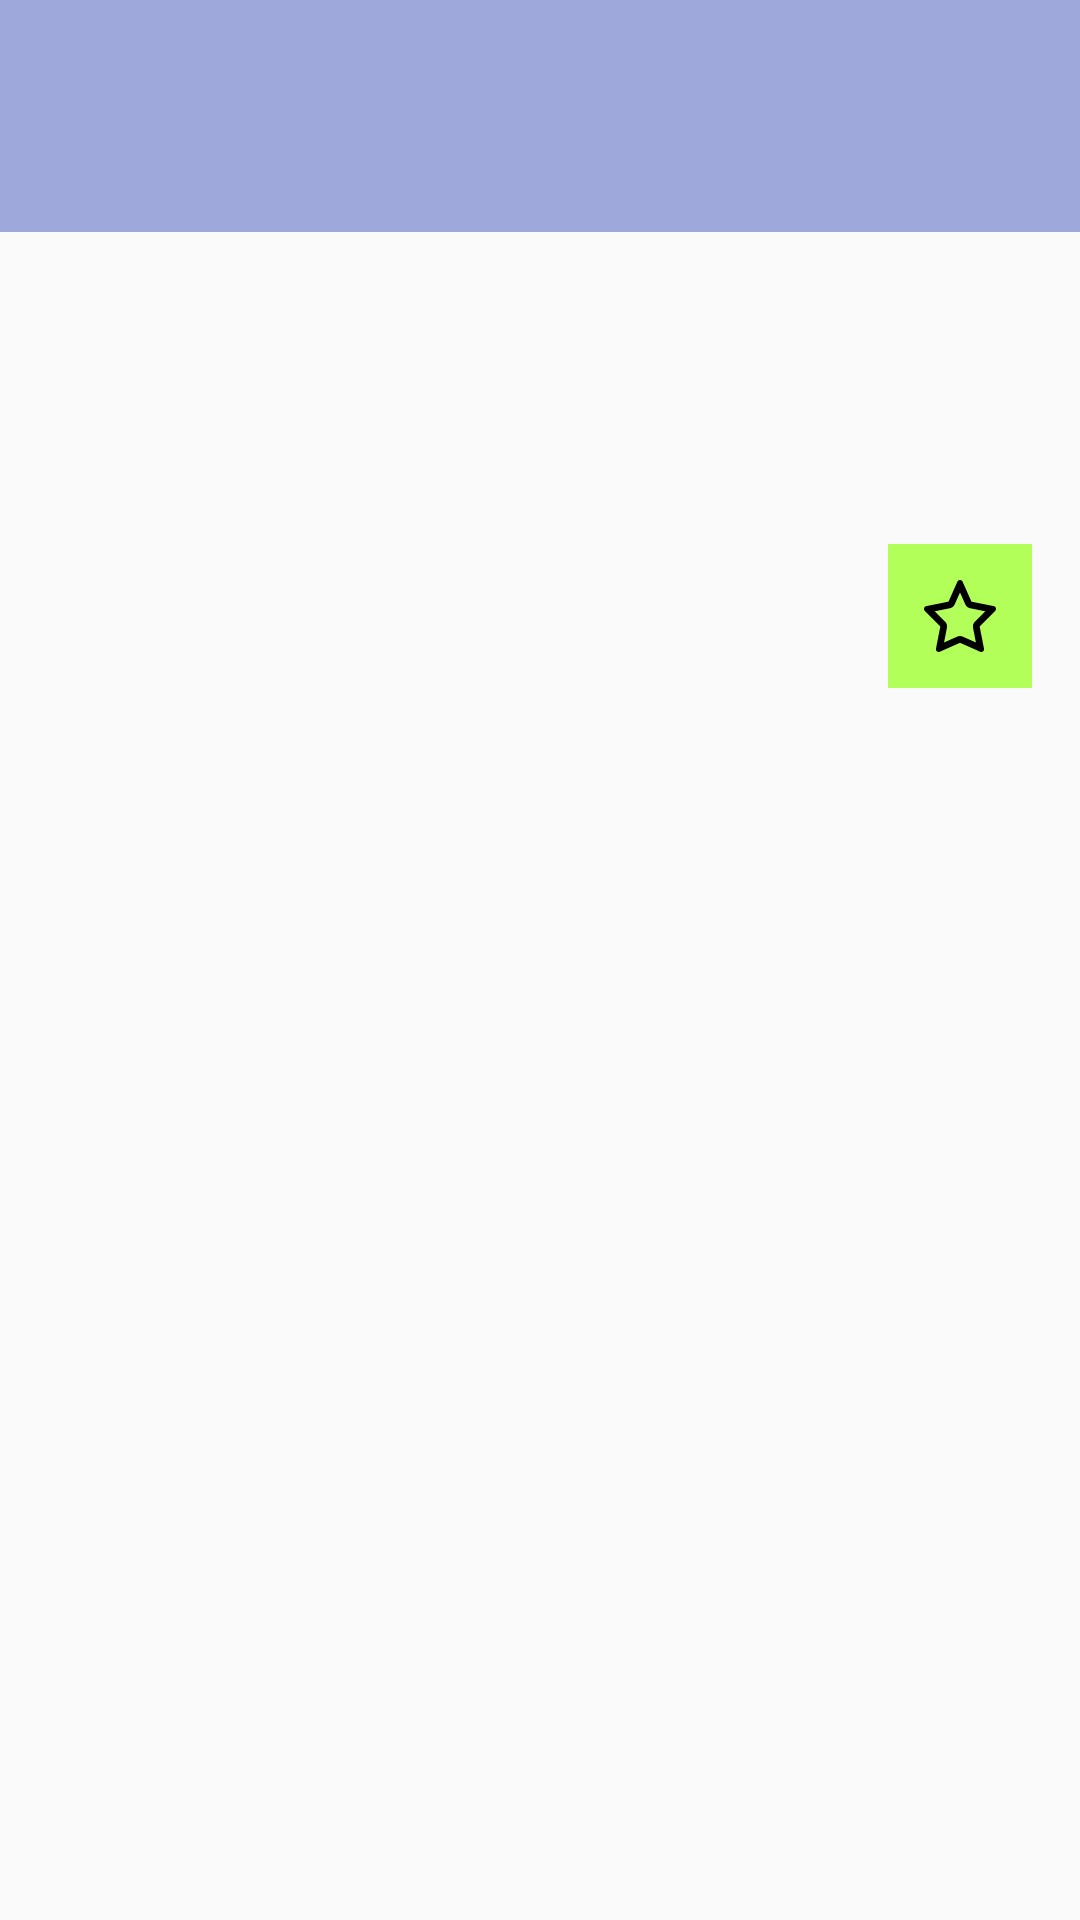

Named icons in this screenshot (1080x1920) and their centers, point (x, y):
Add to favorites: point (960, 616)
